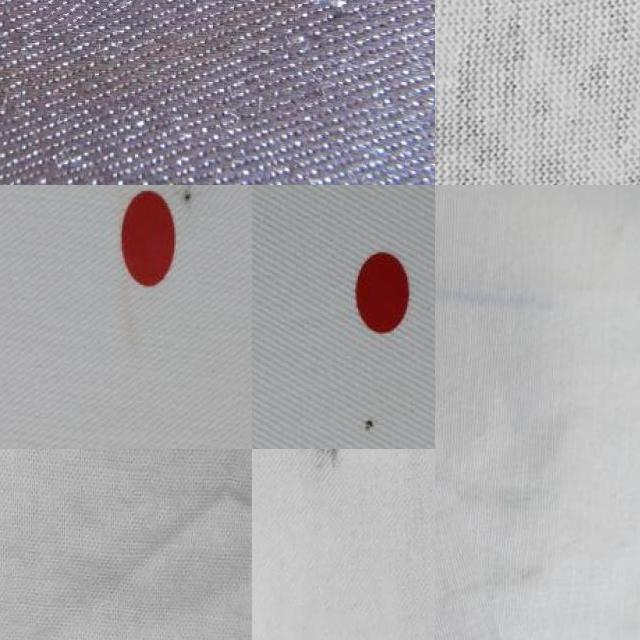Hole: (331, 398, 403, 449), (172, 185, 238, 217)
